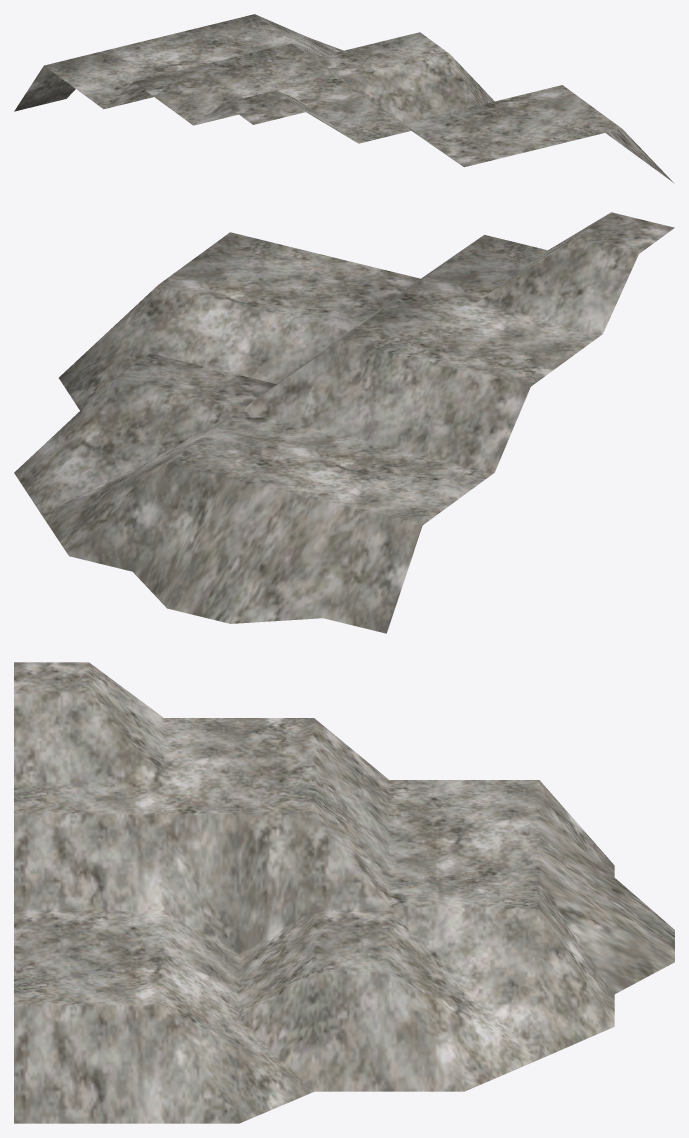
The model's file is DEBREE_CNR_PLAIN.fbx.
The picture shows the model from 3 angles, top to bottom: view 1: azimuth 30°, elevation 25°; view 2: azimuth 150°, elevation 25°; view 3: azimuth 270°, elevation 25°; orthographic projection. The views are drawn at different scales.
Parts seen in each view (by area): view 1: DEBREE_CNR_PLAIN; view 2: DEBREE_CNR_PLAIN; view 3: DEBREE_CNR_PLAIN.
Part boxes in pixels (x1=…): DEBREE_CNR_PLAIN: x1=14, y1=14, x2=674, y2=183; DEBREE_CNR_PLAIN: x1=14, y1=212, x2=674, y2=633; DEBREE_CNR_PLAIN: x1=14, y1=662, x2=674, y2=1123.
Size of the model in its own units: 50557 by 18562 by 54666.
Materials: 1 (1 with a texture image).
